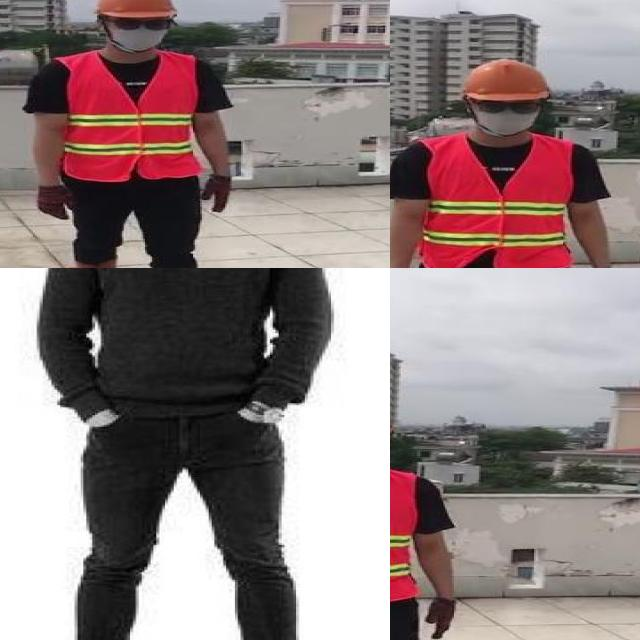face_mask: (473, 98, 541, 134), (110, 15, 174, 52)
glasses: (110, 14, 176, 33), (475, 98, 543, 116)
hand_glove: (33, 185, 74, 220), (426, 597, 456, 639), (204, 174, 230, 211)
head_helmet: (460, 58, 554, 102), (86, 0, 185, 25)
person: (30, 268, 333, 640), (19, 0, 250, 268), (390, 55, 622, 268)
vest: (420, 138, 570, 268), (61, 53, 202, 181), (390, 468, 421, 601)
